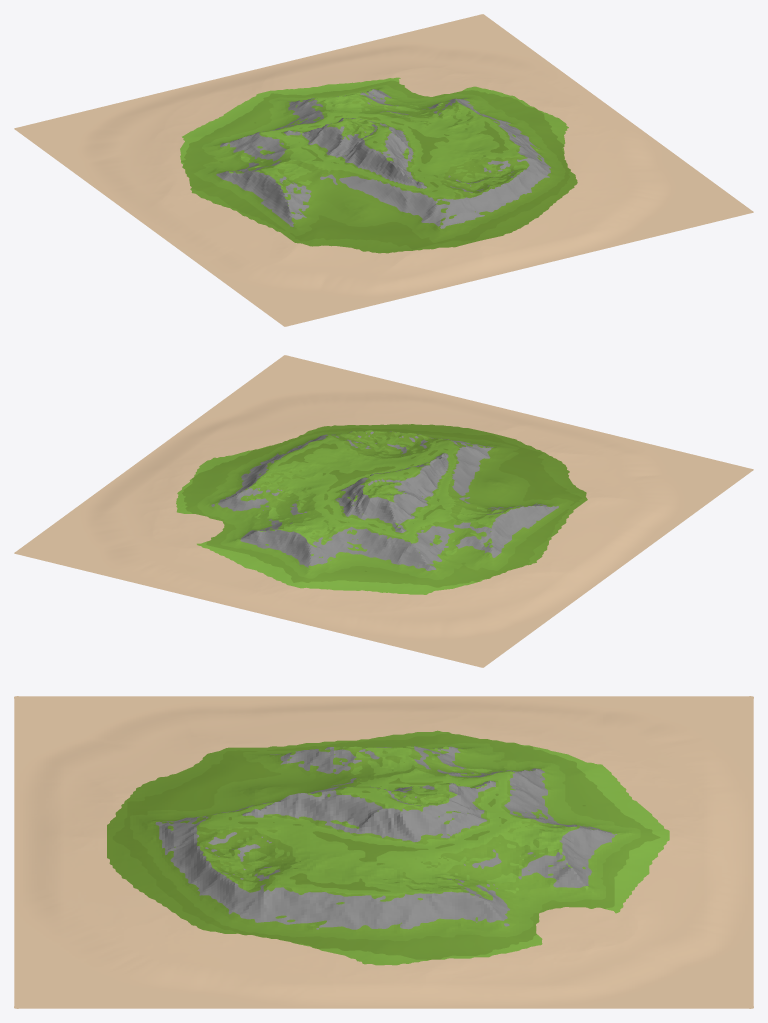
Rendered from LP_Terrain_01.fbx.
3 views of the same model, one above another, from view 1: azimuth 30°, elevation 25°; view 2: azimuth 150°, elevation 25°; view 3: azimuth 270°, elevation 25° (orthographic). The views are drawn at different scales.
Parts seen in each view (by area): view 1: LP_Terrain_01_LOD0; view 2: LP_Terrain_01_LOD0; view 3: LP_Terrain_01_LOD0.
Boxes of the visible parts, <box> form: LP_Terrain_01_LOD0: <box>14,14,753,326</box>; LP_Terrain_01_LOD0: <box>14,355,753,667</box>; LP_Terrain_01_LOD0: <box>14,696,753,1008</box>.
Size of what is drawn, in the model's own units: 500 by 37.62 by 500.
